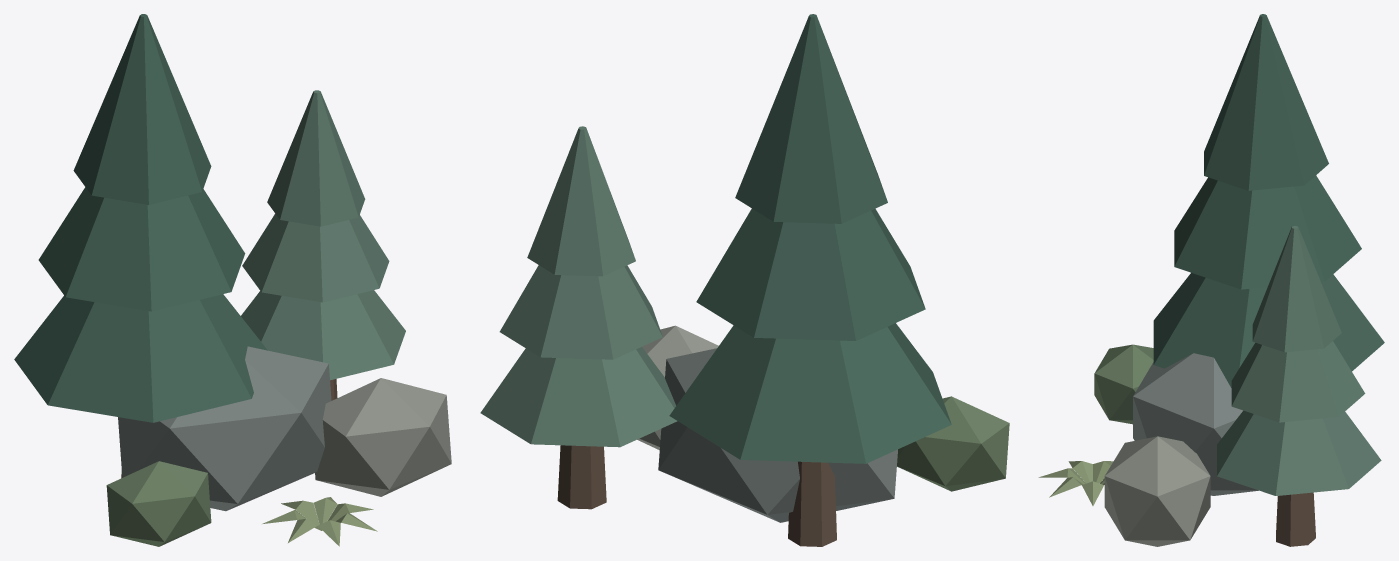
Rendered from xingyin-environment-v2__ridge_pine_outcrop.glb.
The picture shows the model from 3 angles, left to right: view 1: azimuth 30°, elevation 25°; view 2: azimuth 150°, elevation 25°; view 3: azimuth 270°, elevation 25°; orthographic projection. The views are drawn at different scales.
Visible parts, largest first — view 1: ridge_pine_outcrop; view 2: ridge_pine_outcrop; view 3: ridge_pine_outcrop.
Part boxes in pixels (<box>): ridge_pine_outcrop: <box>14,14,451,546</box>; ridge_pine_outcrop: <box>480,14,1009,546</box>; ridge_pine_outcrop: <box>1038,14,1384,546</box>.
Bounding box in the file's own units: 3.47 × 4.28 × 2.95.
